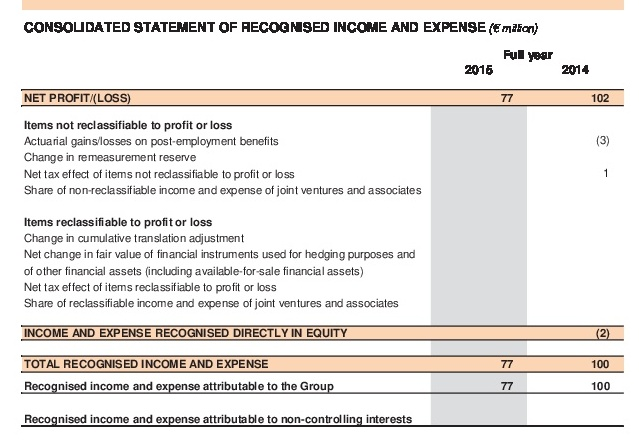table: (0, 0, 639, 440)
